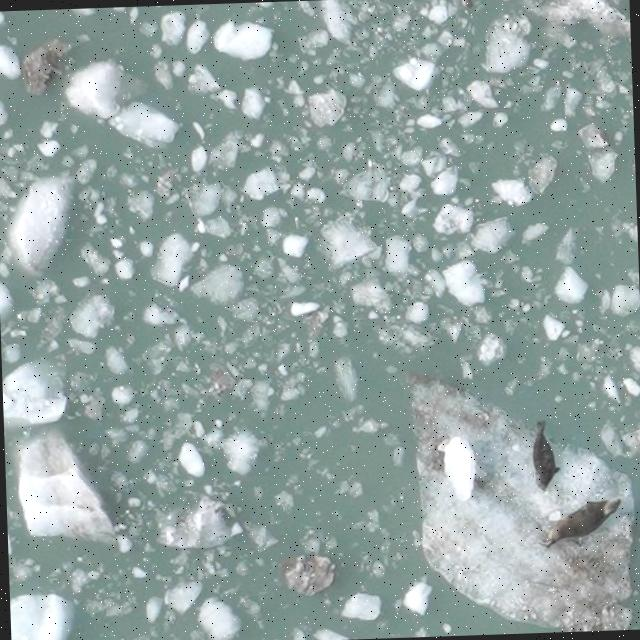seal: (531, 486, 630, 556), (532, 420, 560, 490)
